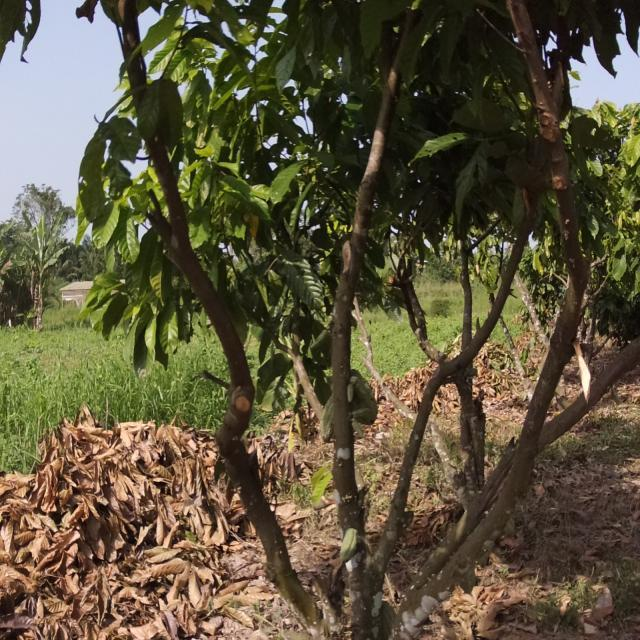Immature: (338, 518, 371, 572)
Mature_Unripe: (339, 370, 385, 435)
